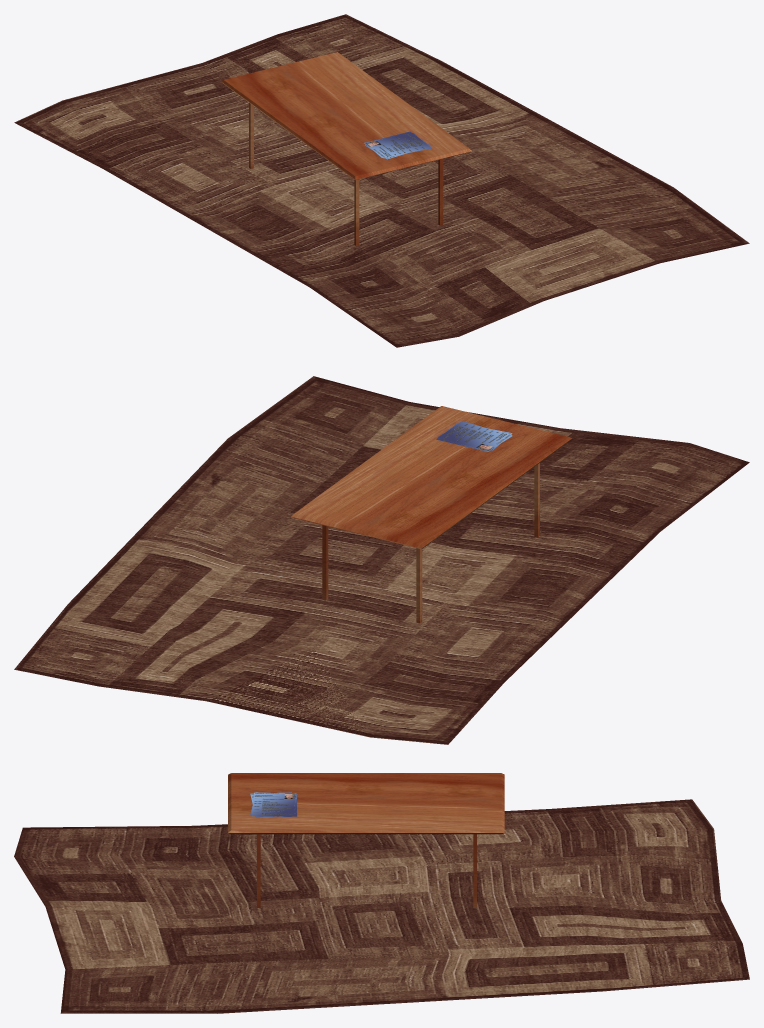
File: deskfull2.gltf
The picture shows the model from 3 angles, top to bottom: view 1: azimuth 30°, elevation 25°; view 2: azimuth 150°, elevation 25°; view 3: azimuth 270°, elevation 25°; orthographic projection. The views are drawn at different scales.
Visible parts, largest first — view 1: Cube; view 2: Cube; view 3: Cube.
Boxes of the visible parts, x1,y1,x2,y2 form: Cube: (14, 14, 749, 347); Cube: (14, 376, 749, 744); Cube: (14, 773, 749, 1013).
Size of the model in its own units: 11.26 by 2.08 by 16.33.
Materials: 6 (6 with a texture image).
